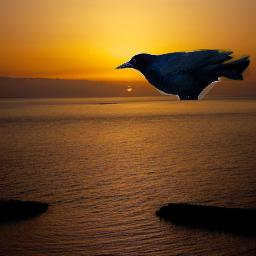Crow: (114, 49, 250, 100)
